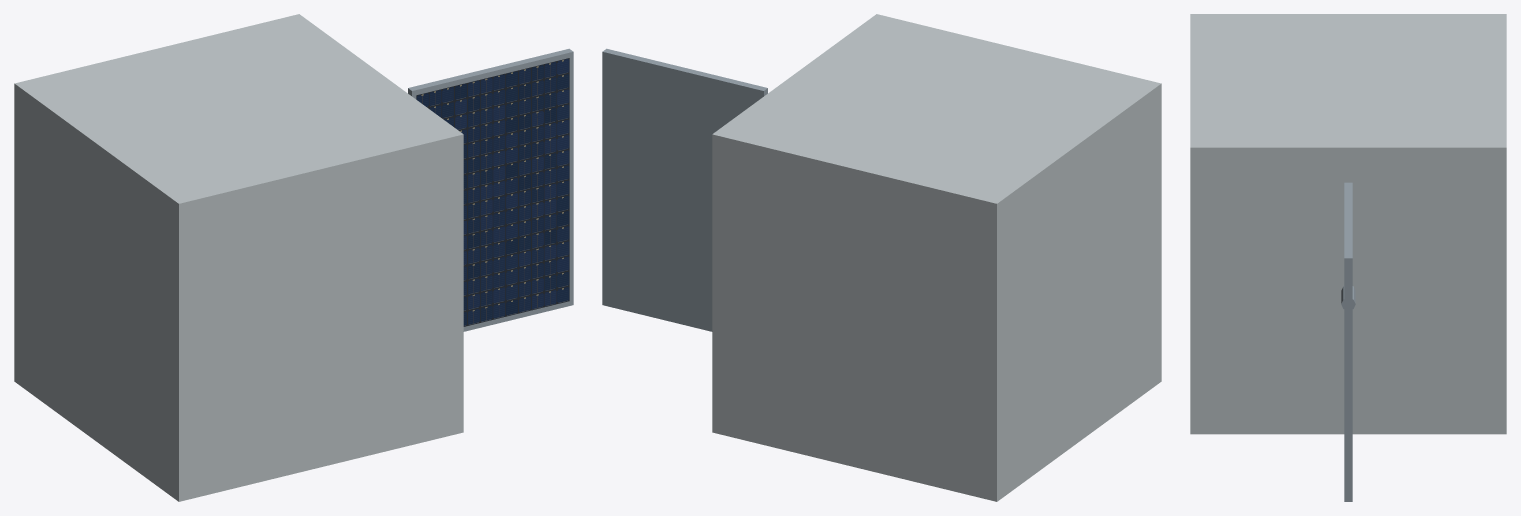
The model's file is ref-myriade-28368.glb.
3 renders of one model, left to right at view 1: azimuth 30°, elevation 25°; view 2: azimuth 150°, elevation 25°; view 3: azimuth 270°, elevation 25°, orthographic. The views are drawn at different scales.
Parts seen in each view (by area): view 1: Spacecraft body, Photovoltaic laminates, Array frame; view 2: Spacecraft body, Array frame; view 3: Spacecraft body, Array frame.
Boxes of the visible parts, x1,y1,x2,y2 form: Spacecraft body: [14, 14, 463, 501]; Photovoltaic laminates: [416, 58, 569, 326]; Array frame: [408, 48, 573, 331]; Spacecraft body: [712, 14, 1161, 501]; Array frame: [602, 48, 767, 331]; Spacecraft body: [1190, 14, 1506, 434]; Array frame: [1344, 182, 1352, 501].
Bounding box in the file's own units: 1 × 0.6 × 0.6.
Materials: 3 (1 with a texture image).
